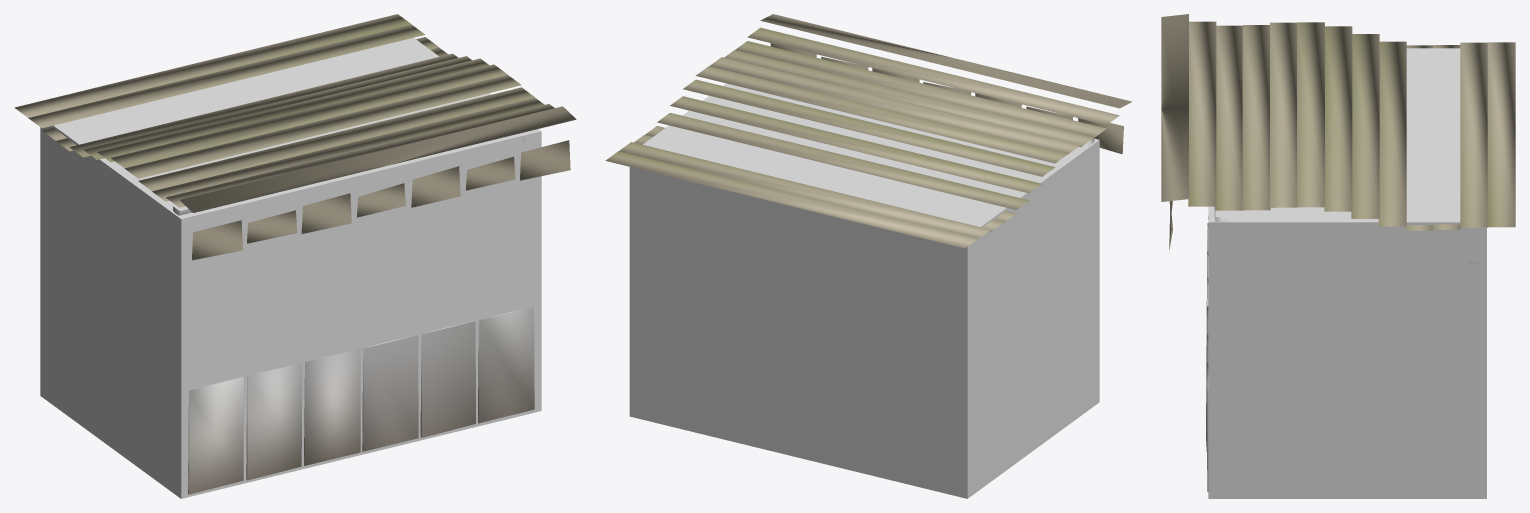
The model's file is prop_market_stall_c_lite.glb.
3 views of the same model, side by side, from view 1: azimuth 30°, elevation 25°; view 2: azimuth 150°, elevation 25°; view 3: azimuth 270°, elevation 25° (orthographic). The views are drawn at different scales.
Visible parts, largest first — view 1: col_stall.002, cloth_awning.002, stall_frame.002; view 2: col_stall.002, cloth_awning.002; view 3: col_stall.002, cloth_awning.002, stall_frame.002.
Part boxes in pixels (x1,y1,x2,y2): col_stall.002: (40,37,541,498); cloth_awning.002: (14,14,576,260); stall_frame.002: (173,137,534,494); col_stall.002: (629,83,1099,498); cloth_awning.002: (605,14,1132,248); col_stall.002: (1208,48,1486,498); cloth_awning.002: (1161,14,1515,252); stall_frame.002: (1206,207,1478,491).
Size of the model in its own units: 3.3 by 2.55 by 2.67.
